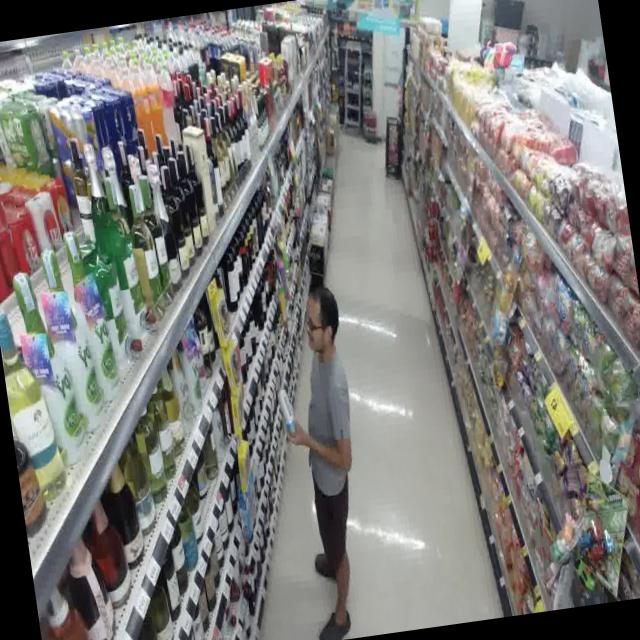pickup: (248, 262, 396, 640)
